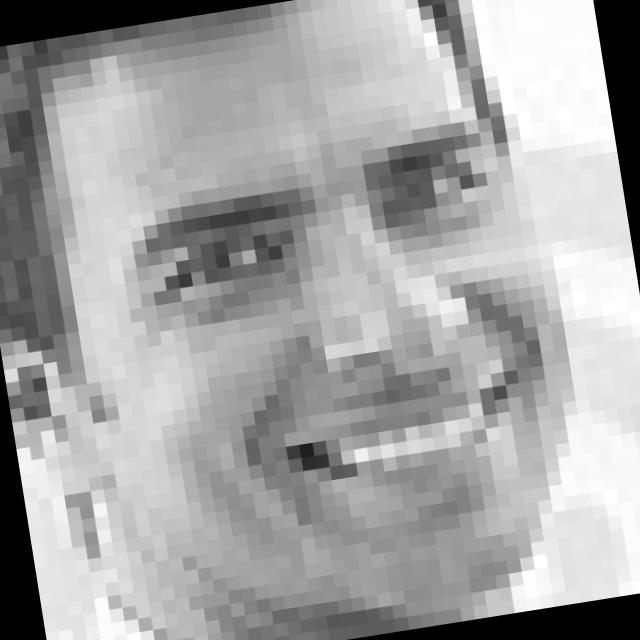happy: (118, 111, 573, 574)
